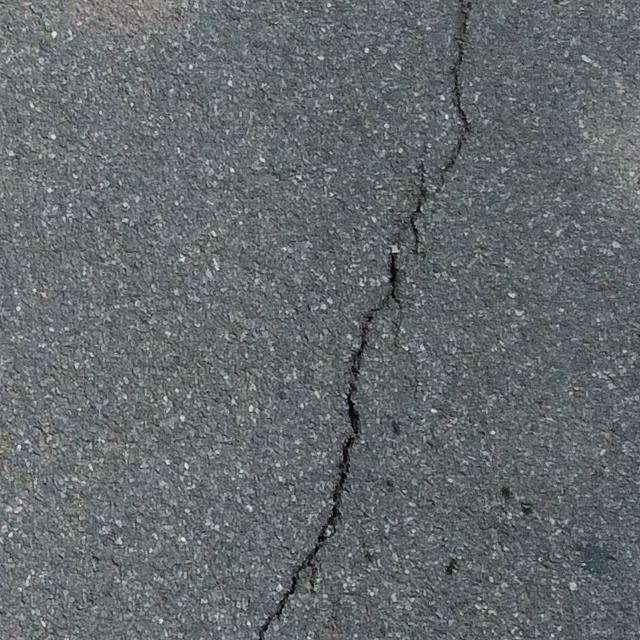LongitudinalCrack: (257, 1, 474, 638)
